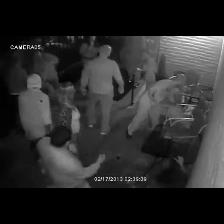person: (37, 126, 105, 187), (81, 45, 123, 134), (127, 80, 183, 138), (19, 74, 51, 141), (51, 83, 80, 154), (4, 52, 27, 129), (79, 36, 99, 64)
